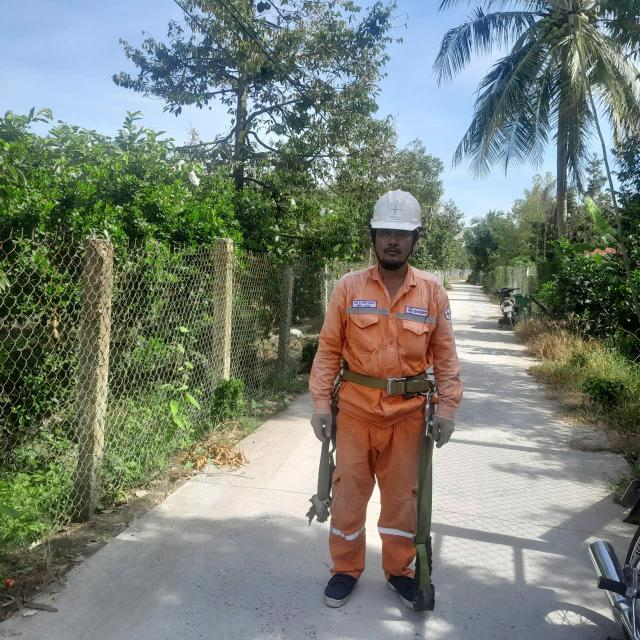harness: (335, 342, 440, 404), (309, 404, 341, 444), (434, 408, 458, 450)
helmet: (365, 185, 437, 241)
shoes: (380, 564, 443, 614), (322, 560, 362, 608)
